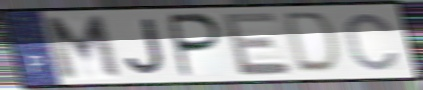C: (343, 11, 403, 73)
D: (284, 10, 343, 76)
E: (219, 10, 295, 78)
J: (123, 16, 168, 76)
M: (42, 13, 125, 83)
P: (168, 12, 227, 80)
